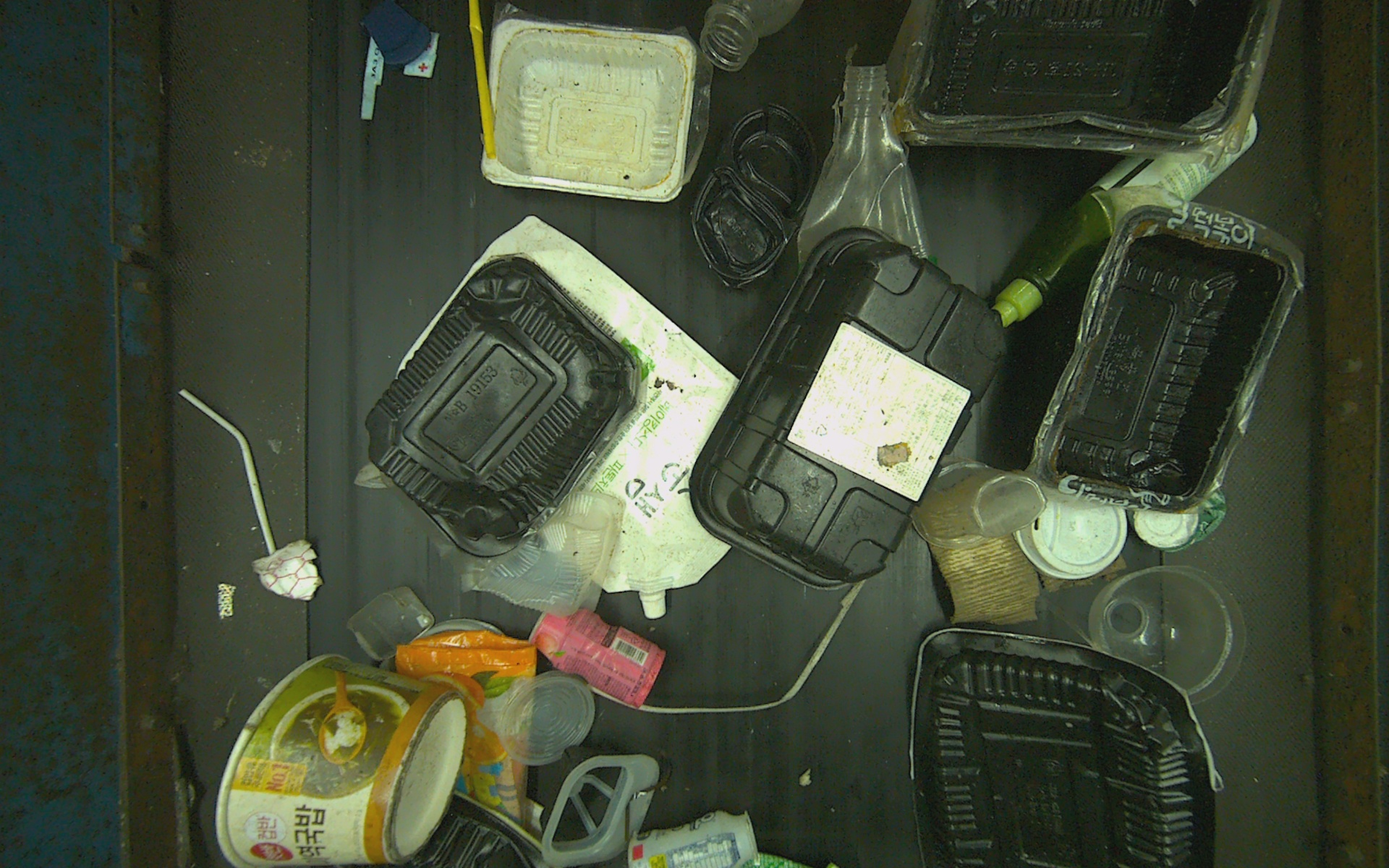PET-C: (1088, 566, 1247, 705)
PP-B: (689, 226, 1007, 589), (1034, 205, 1298, 513), (365, 257, 636, 557), (913, 631, 1216, 868)
PS-W: (529, 608, 666, 707), (1012, 485, 1127, 580)
